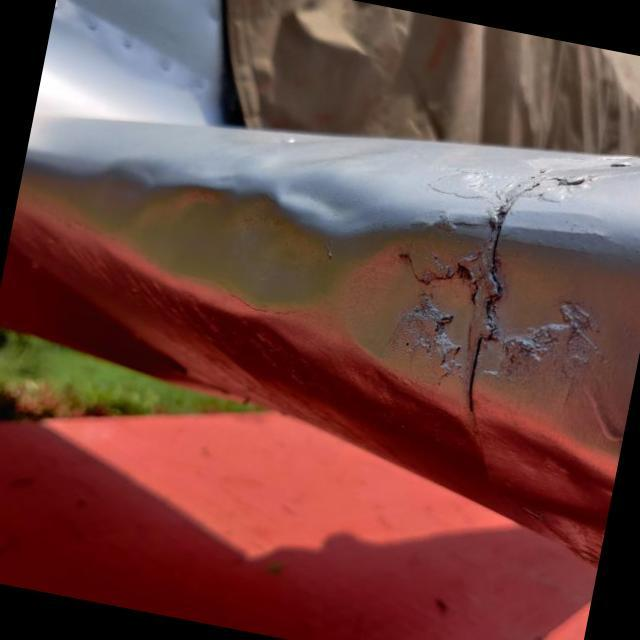Dent: (85, 140, 364, 344)
